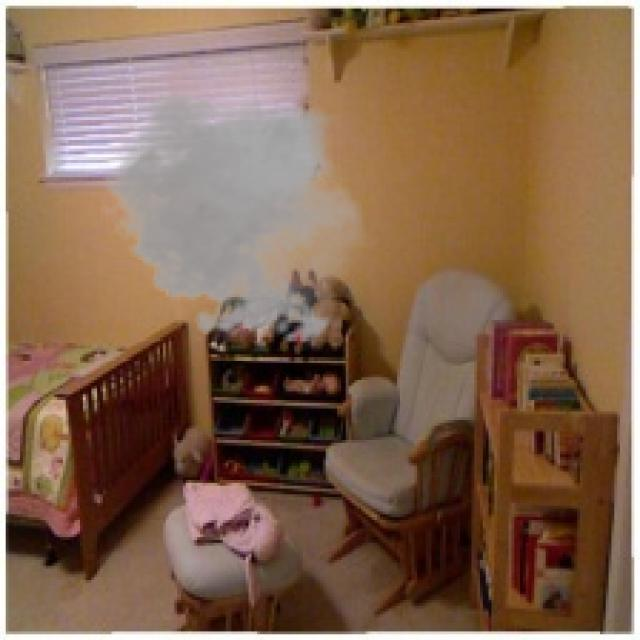smoke: (94, 83, 377, 351)
